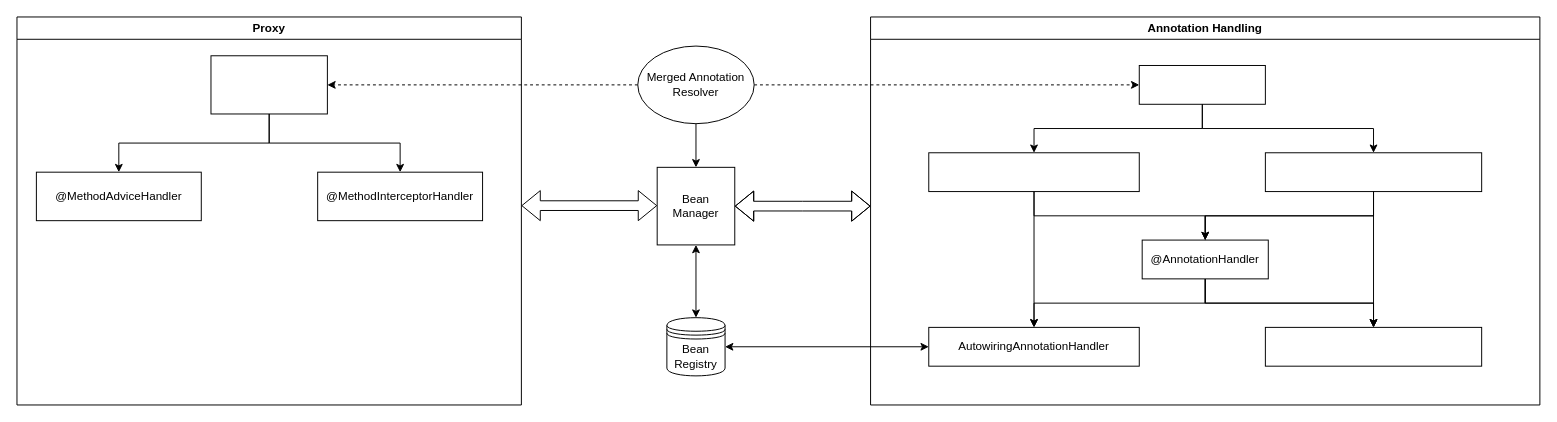
The diagram is 1557 pixels wide and 422 high, and some of its shapes have lost their labels. Each missing label, with the centre of its shape:
AnnotationResolvers: the point at 1201,84
AutowiringAnnotationResolver: the point at 1033,172
Bean Proxy Handler: the point at 268,84
CustomAutoCreateAnnotationHandler: the point at 1373,346
CustomAutoCreateAnnotationResolver: the point at 1373,172
